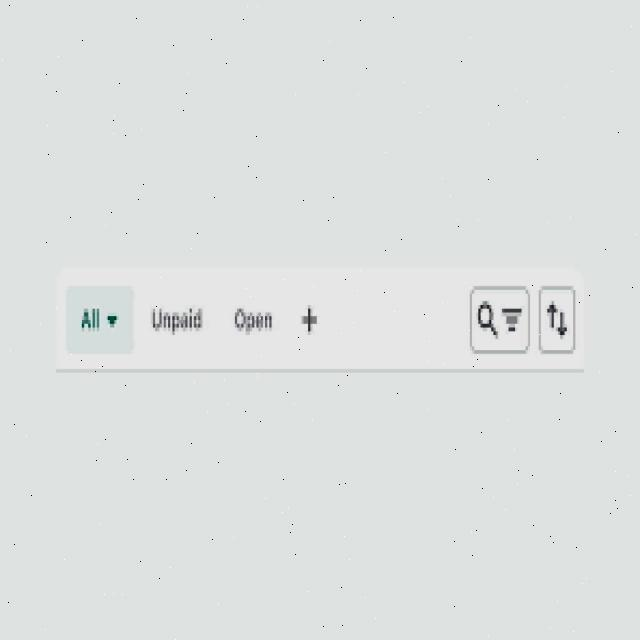button: (534, 280, 583, 357)
checkbox: (299, 301, 319, 337)
dropdownMenu: (64, 285, 138, 354), (477, 296, 521, 343)
menu: (147, 299, 209, 339), (223, 297, 279, 339)
